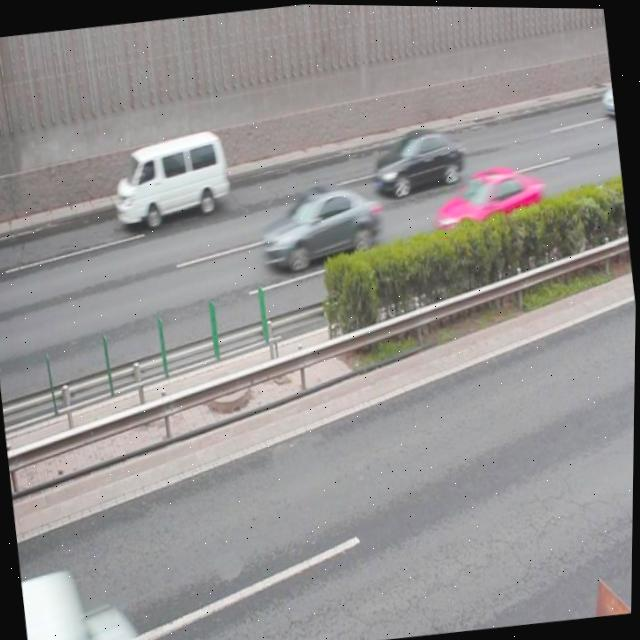car: (257, 179, 384, 273), (431, 161, 546, 239), (370, 123, 468, 197), (596, 81, 615, 114)
truck: (109, 124, 232, 231), (20, 552, 155, 640)
